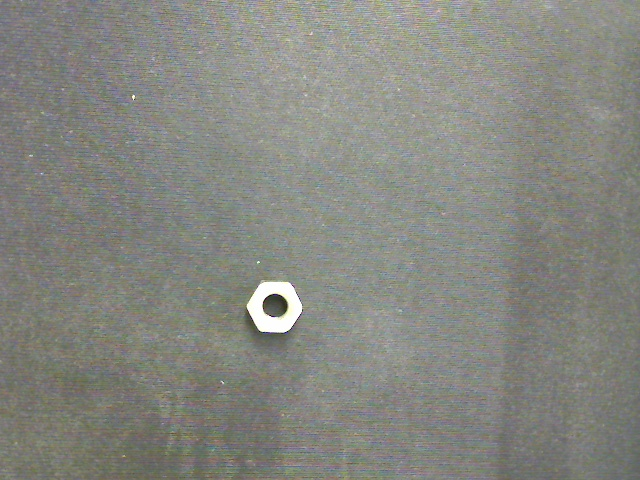Nut: (246, 280, 303, 332)
